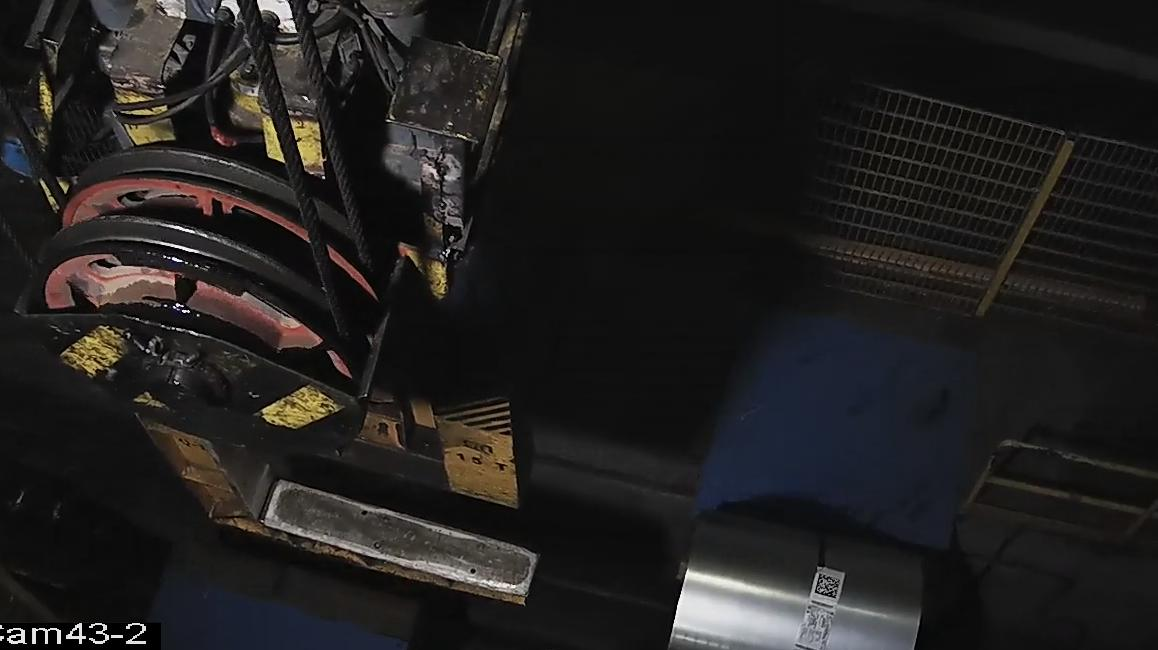data matrix: (814, 572, 843, 602)
